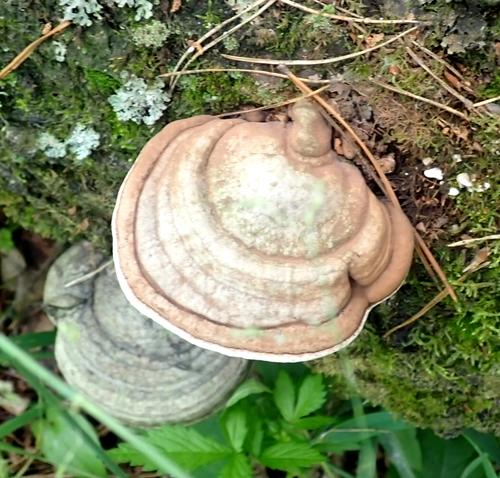Ganoderma - Fruit Body: (105, 104, 420, 368), (46, 231, 255, 427)
